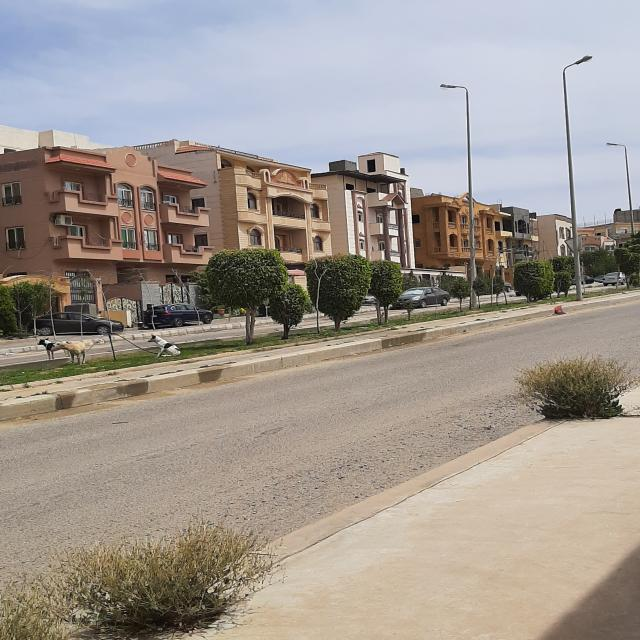Street Light: (438, 83, 478, 308), (561, 54, 592, 300), (605, 142, 637, 259)
